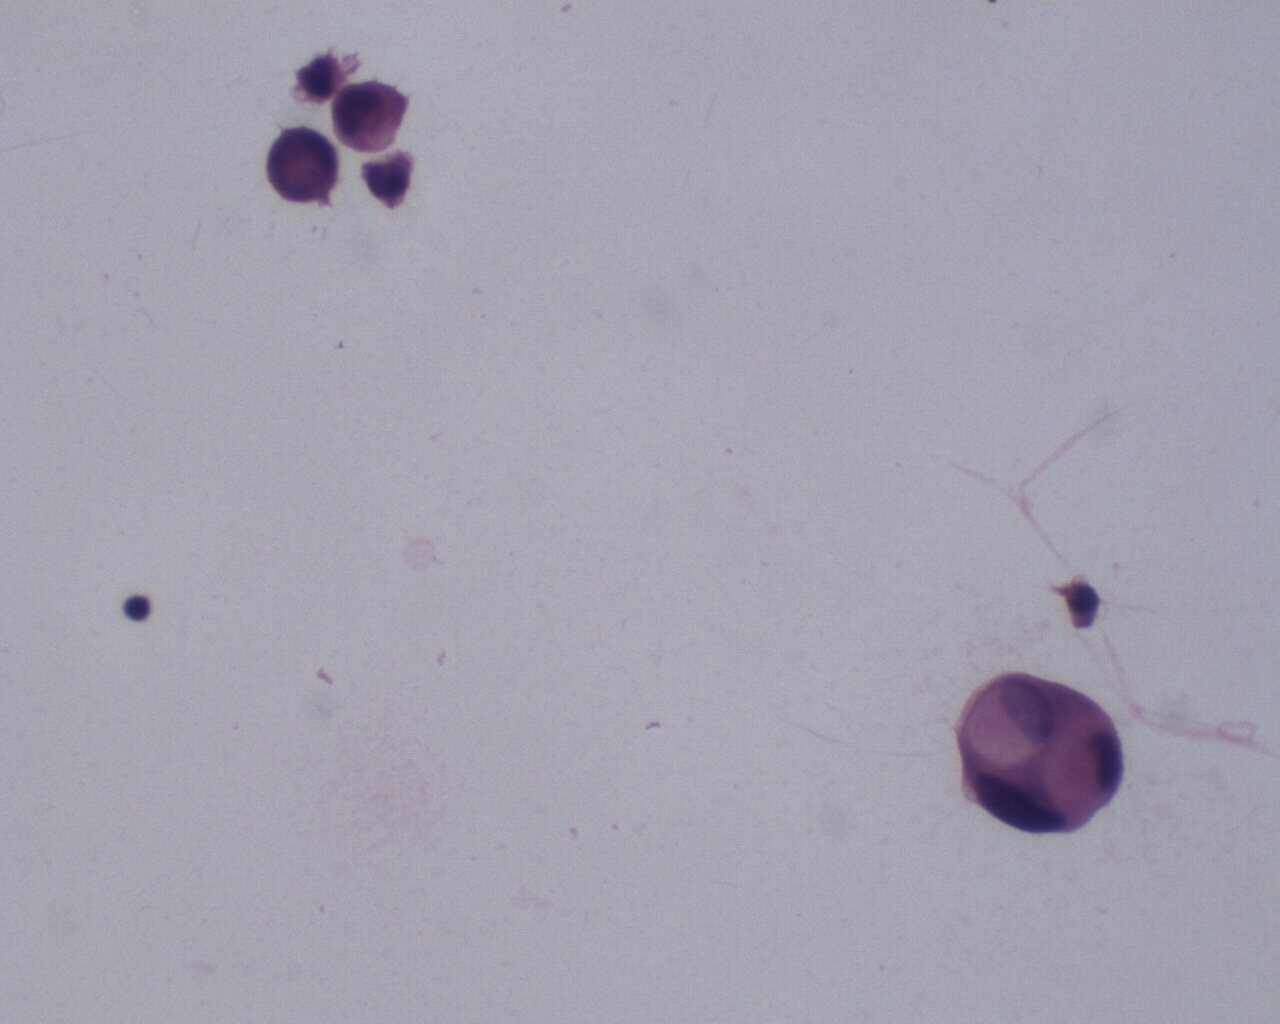ab: (951, 670, 1130, 848), (263, 119, 347, 212), (333, 79, 419, 158)
lymph: (118, 589, 163, 632)
